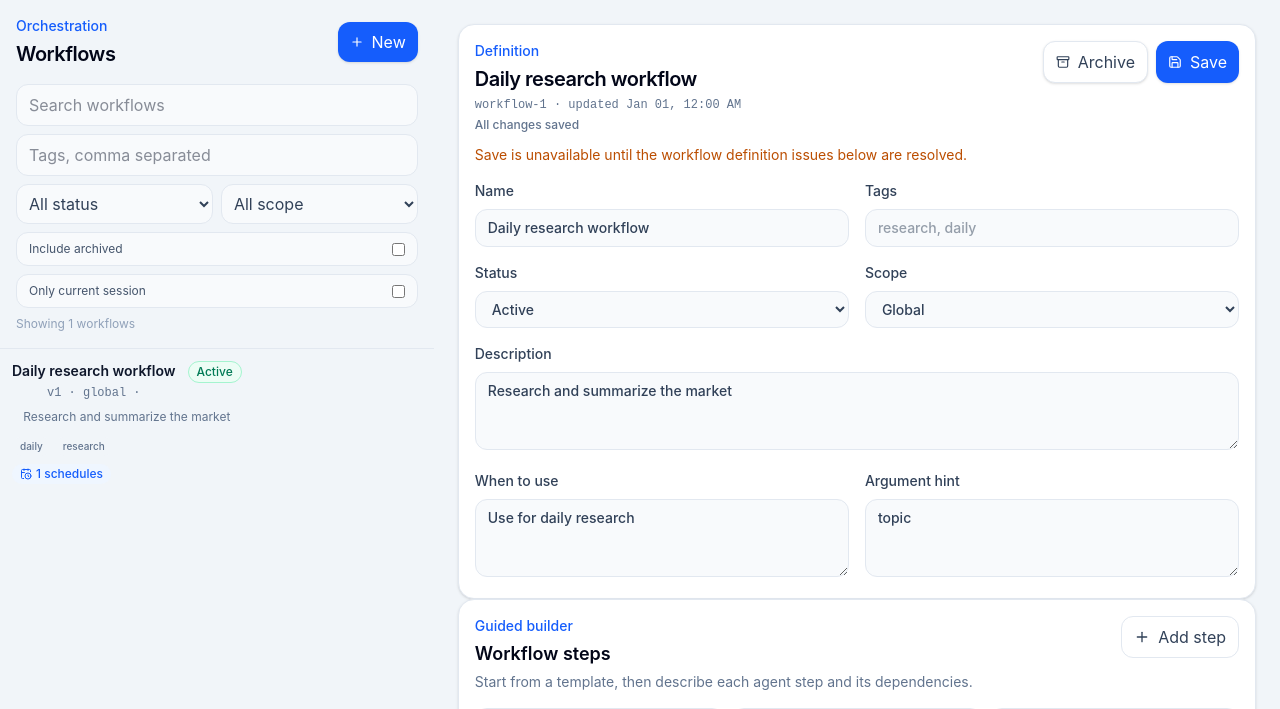
WorkflowsPage workflow schedules › requires explicit discard confirmation before archiving a dirty workflow
This screenshot has width=1280, height=709.
Replace the text in the field labelled "Name" with "Unsaved workflow name" at x=662, y=228, box 475,209 -> 849,247
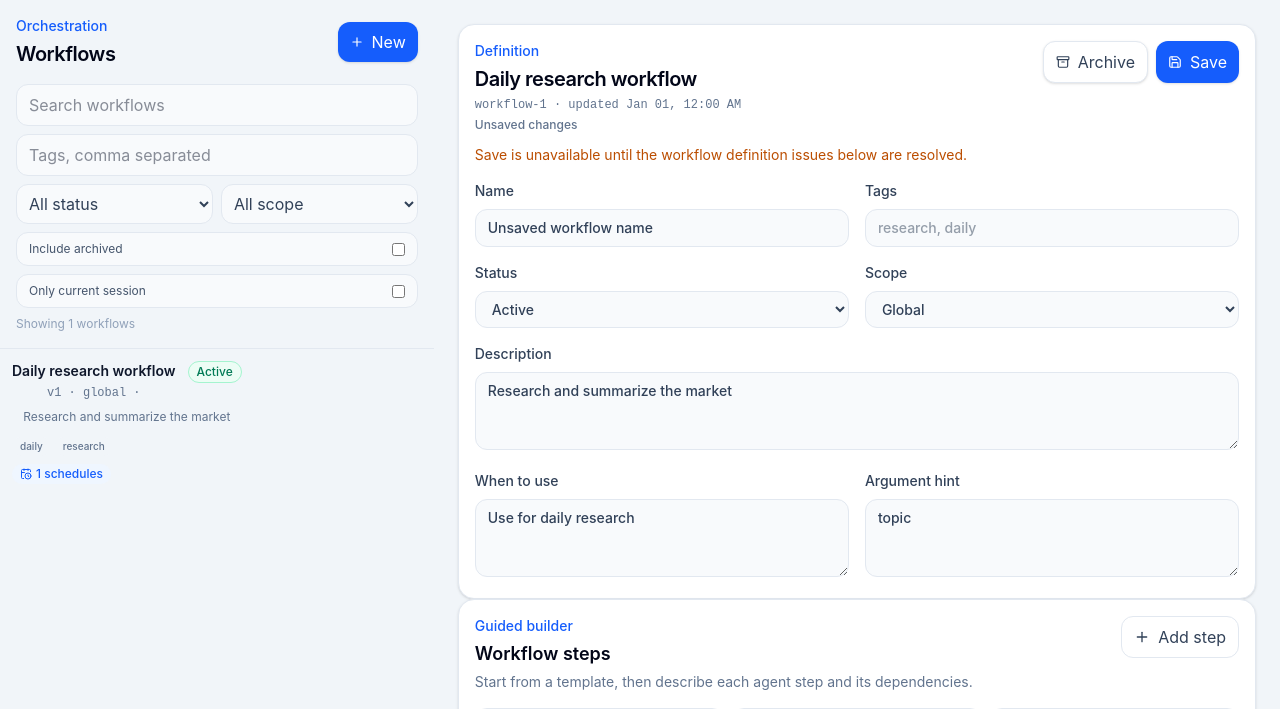
Click the button "Archive" at x=1095, y=62, box 1043,41 -> 1148,83
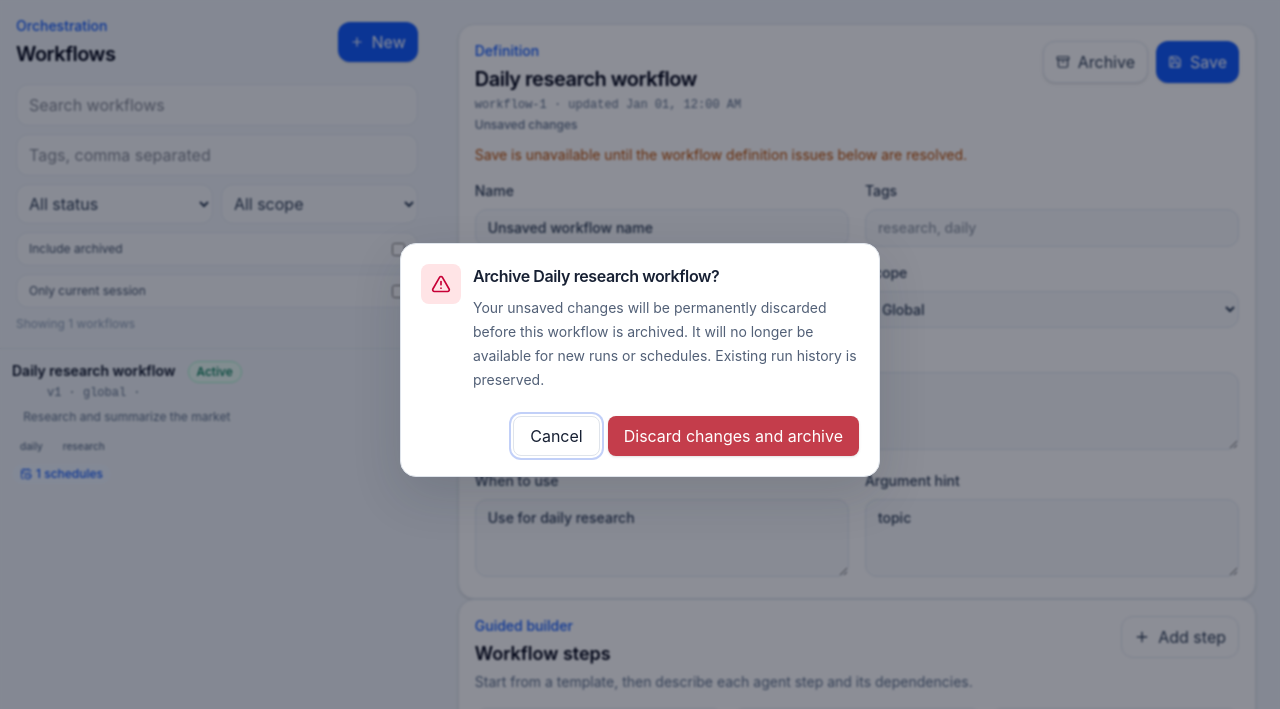
Result: the text "unsaved changes will be permanently discarded" is shown at 473,299 -> 857,388
Click the button "Discard changes and archive" at x=733, y=436, box 608,416 -> 859,456
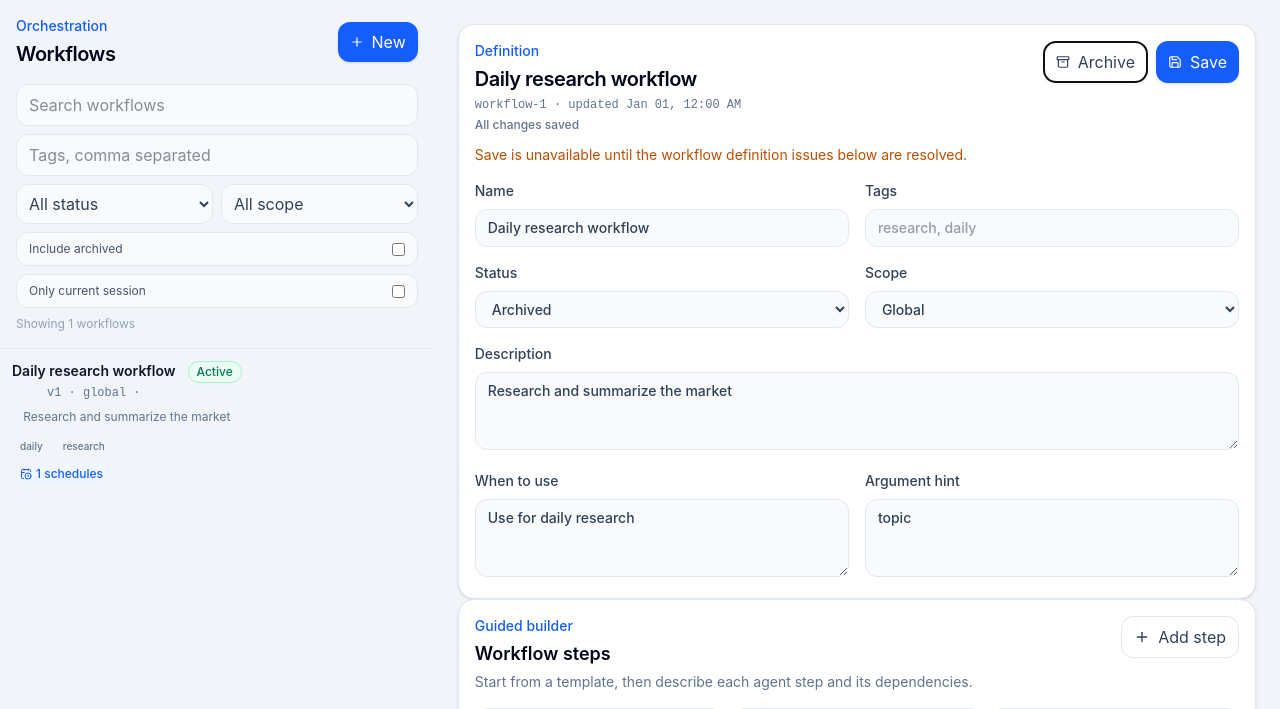
Result: the field labelled "Name" holds "Daily research workflow" at 475,209 -> 849,247
